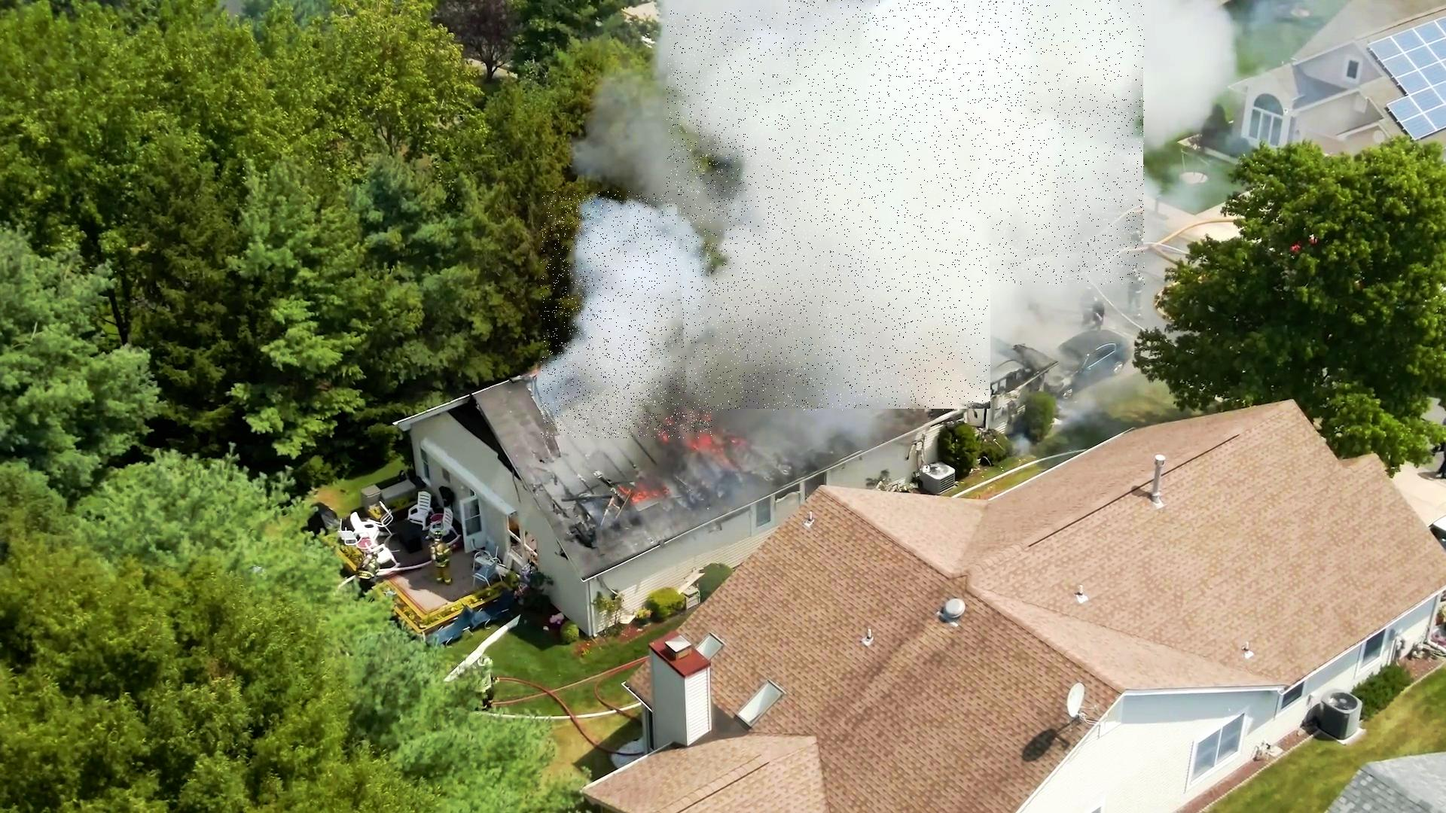smoke: (667, 11, 991, 411), (789, 0, 1145, 285), (541, 192, 712, 439)
